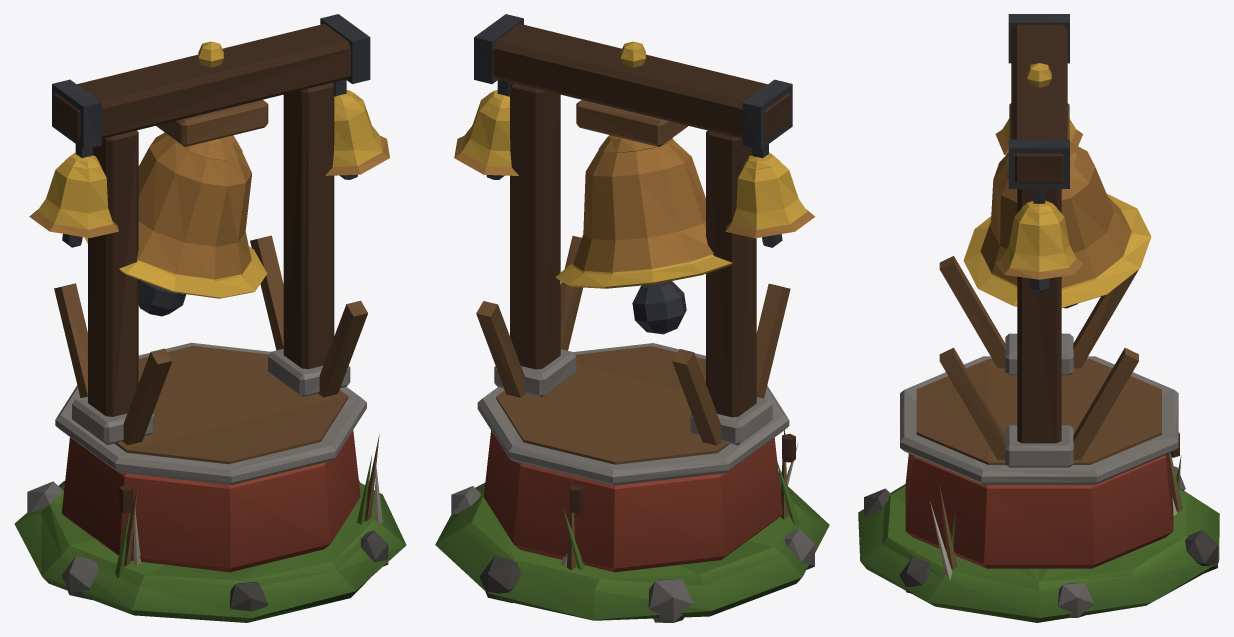
The model's file is ringing_clapper.glb.
3 renders of one model, left to right at view 1: azimuth 30°, elevation 25°; view 2: azimuth 150°, elevation 25°; view 3: azimuth 270°, elevation 25°, orthographic. The views are drawn at different scales.
Parts seen in each view (by area): view 1: ringing_clapper; view 2: ringing_clapper; view 3: ringing_clapper.
Part boxes in pixels (box(x1,y1,x2,y2)): ringing_clapper: box(14, 14, 406, 622); ringing_clapper: box(435, 14, 829, 622); ringing_clapper: box(858, 14, 1219, 622).
Bounding box in the file's own units: 0.9582 × 1.34 × 0.899.
